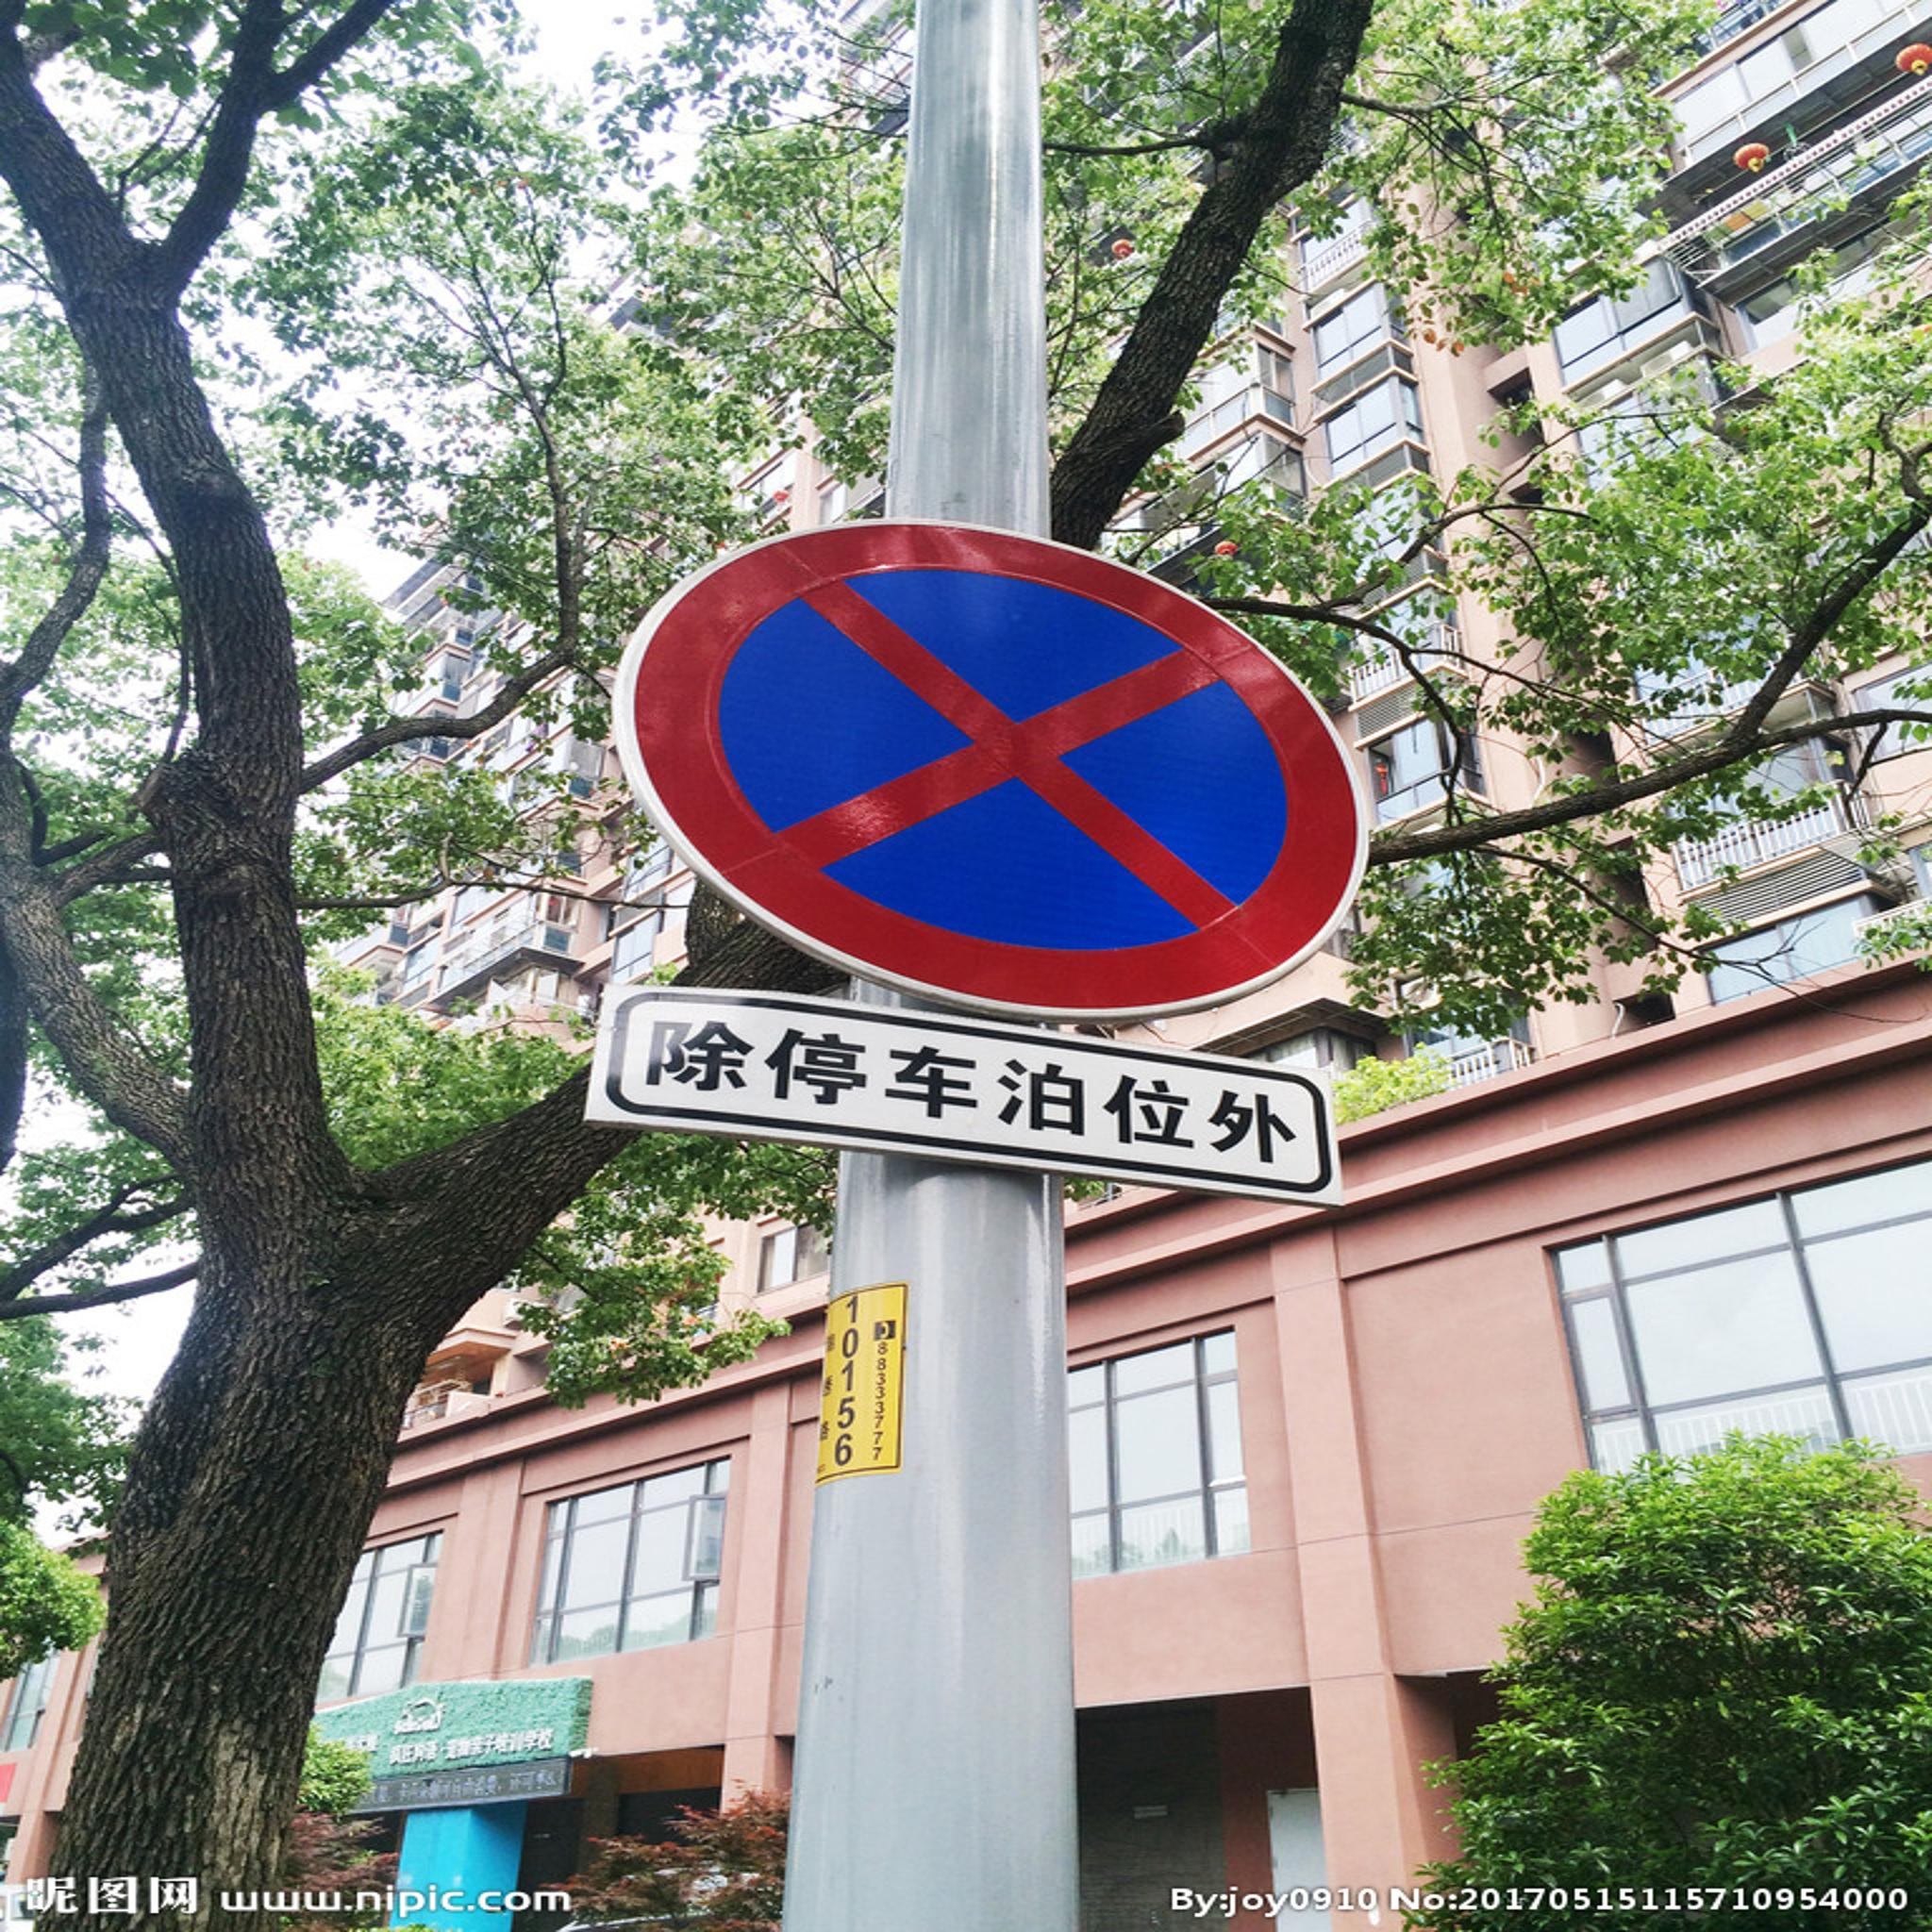pn: (616, 524, 1366, 1021)
